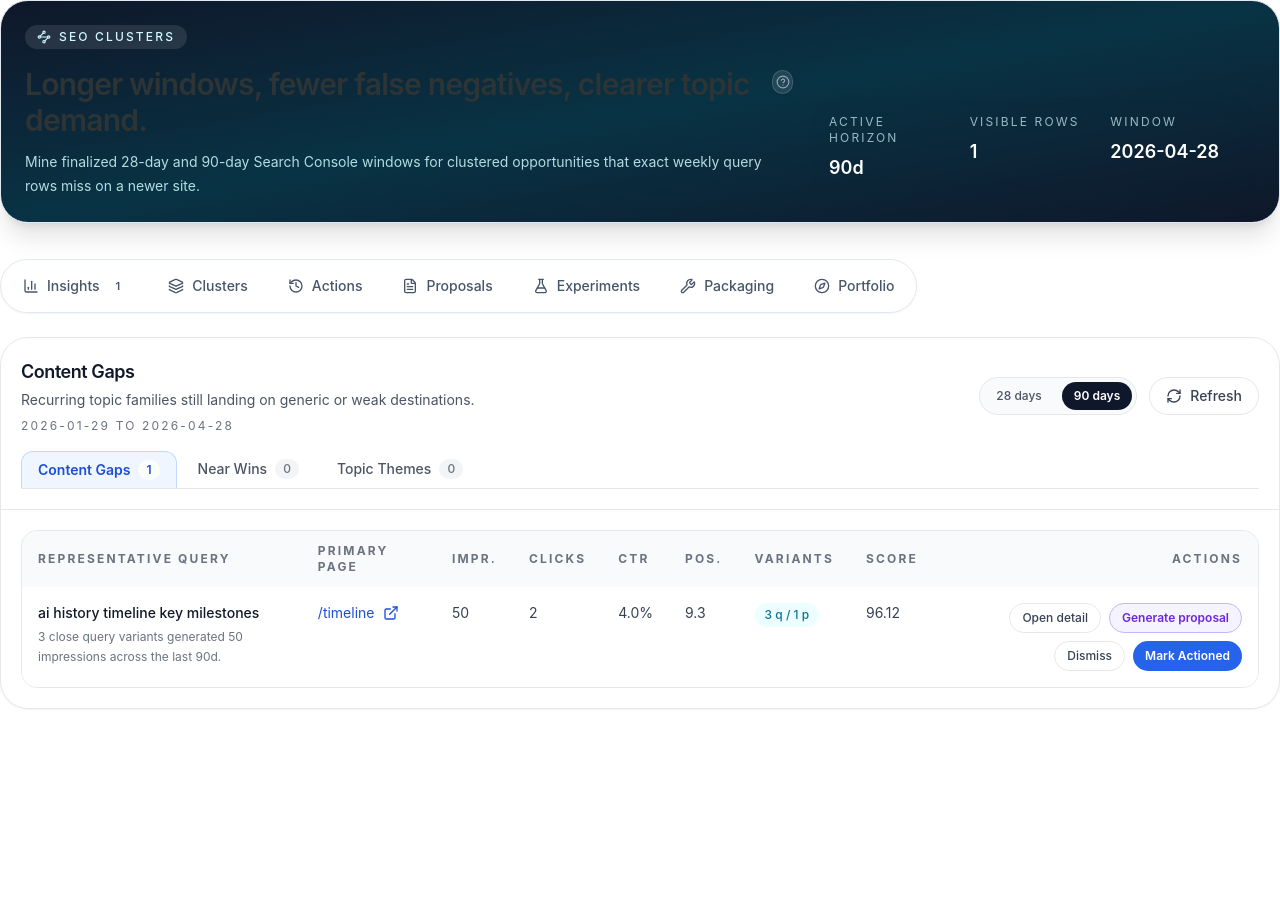
it: SeoClustersPage › generates a proposal and removes the actioned cluster from the open backlog
Expected: the text "ai history timeline key milestones" is shown, [38, 603, 286, 623]
Click the button "Generate proposal" at (1176, 618), box [1109, 603, 1242, 633]
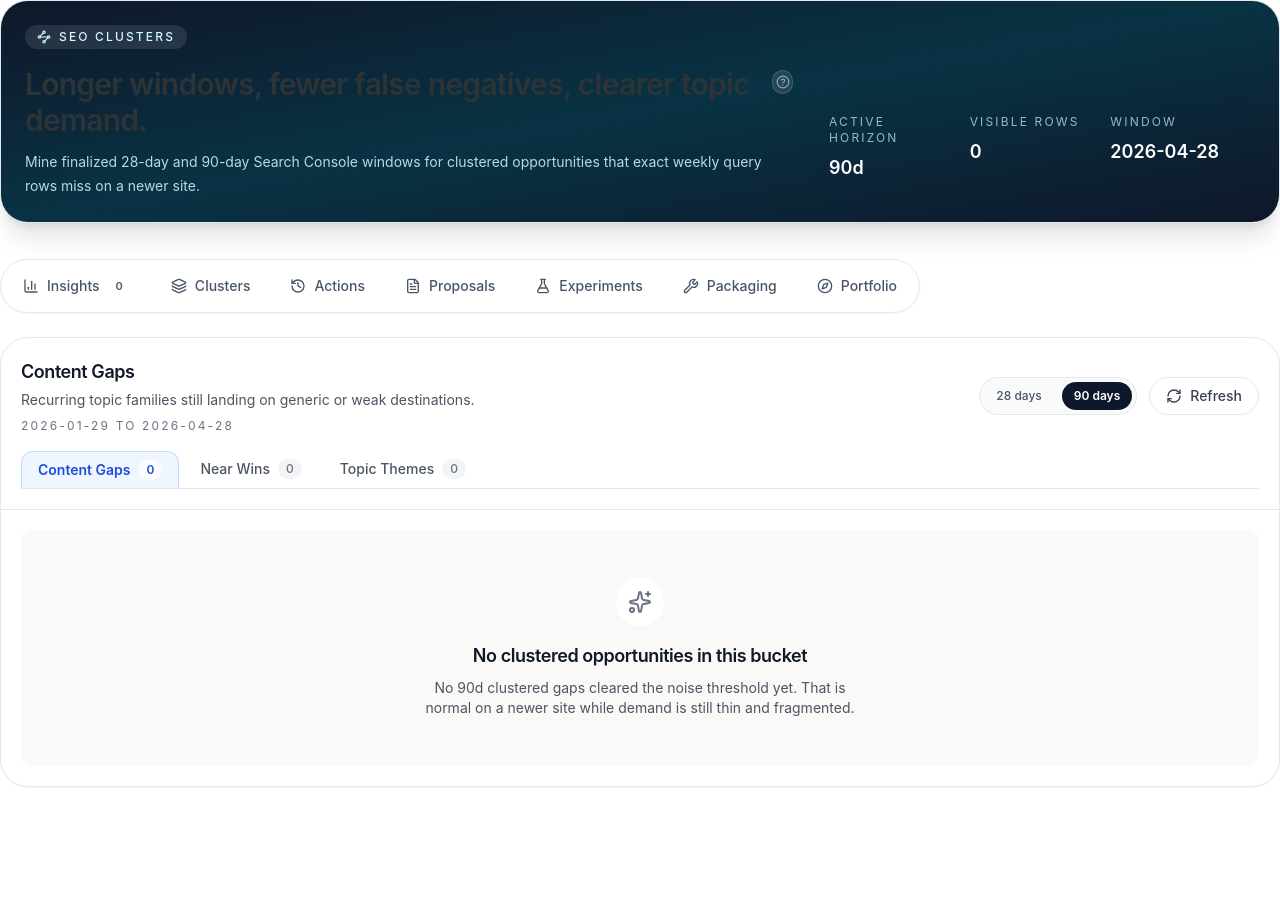
Expected: the heading "No clustered opportunities in this bucket" is shown, [473, 642, 807, 670]
